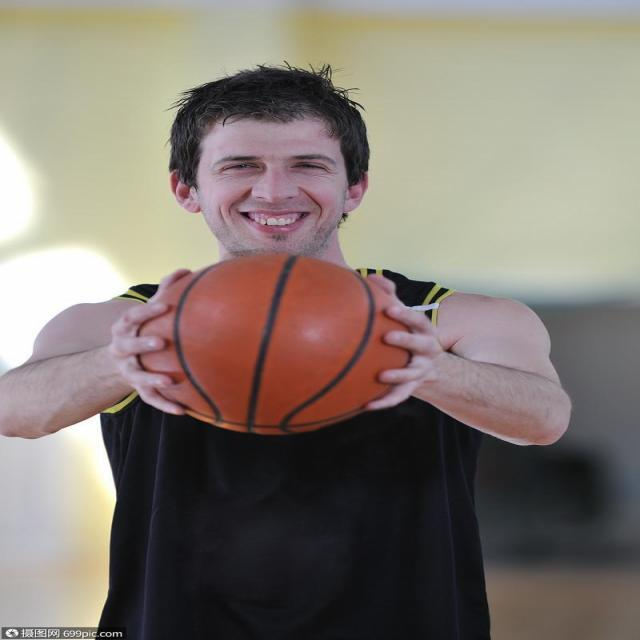rim: (143, 256, 414, 434)
